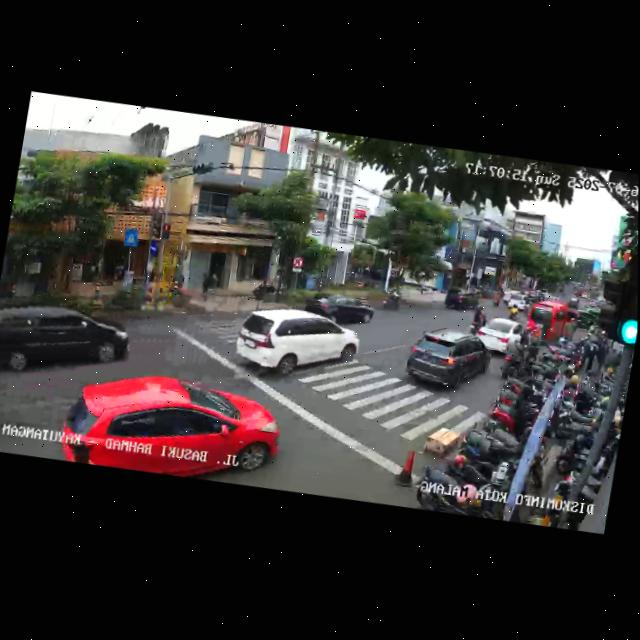car: (56, 358, 287, 494), (0, 292, 130, 391), (230, 299, 362, 394), (400, 323, 494, 399), (524, 298, 580, 349), (306, 289, 375, 329), (473, 317, 527, 358), (442, 284, 481, 317), (504, 290, 530, 319)
motorcycle: (381, 281, 403, 312), (468, 303, 488, 336), (506, 298, 523, 323)
